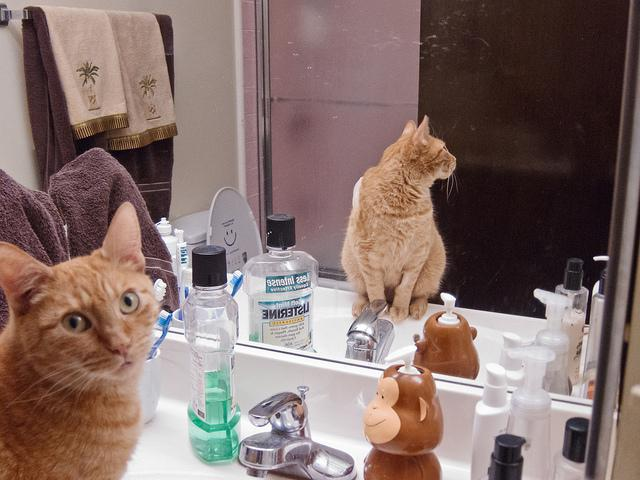Lavamanos: (205, 285, 559, 402)
Otro Obstaculo: (0, 193, 166, 479), (333, 120, 463, 312)
